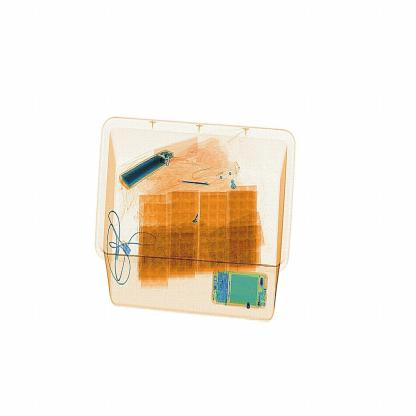wrench: (180, 179, 211, 194)
